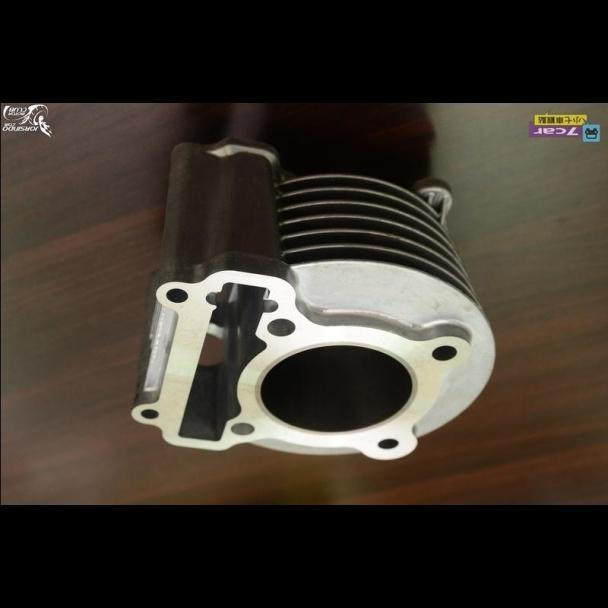hole: (264, 314, 297, 340), (428, 340, 459, 363), (227, 419, 256, 435), (373, 434, 399, 451)
